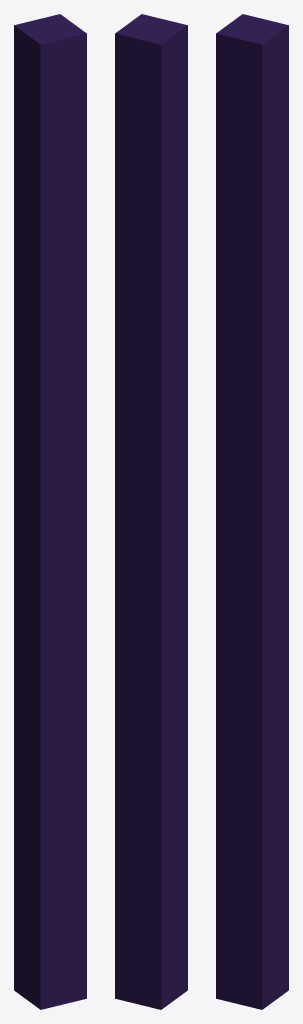
Rendered from MetalFrameType1_Vertical.fbx.
3 renders of one model, left to right at view 1: azimuth 30°, elevation 25°; view 2: azimuth 150°, elevation 25°; view 3: azimuth 330°, elevation 25°, orthographic.
Visible parts, largest first — view 1: Cube; view 2: Cube; view 3: Cube.
Boxes of the visible parts, bbox=[...] form: Cube: bbox=[14, 14, 86, 1009]; Cube: bbox=[115, 14, 187, 1009]; Cube: bbox=[216, 14, 288, 1009].
Size of the model in its own units: 2 by 40 by 2.
